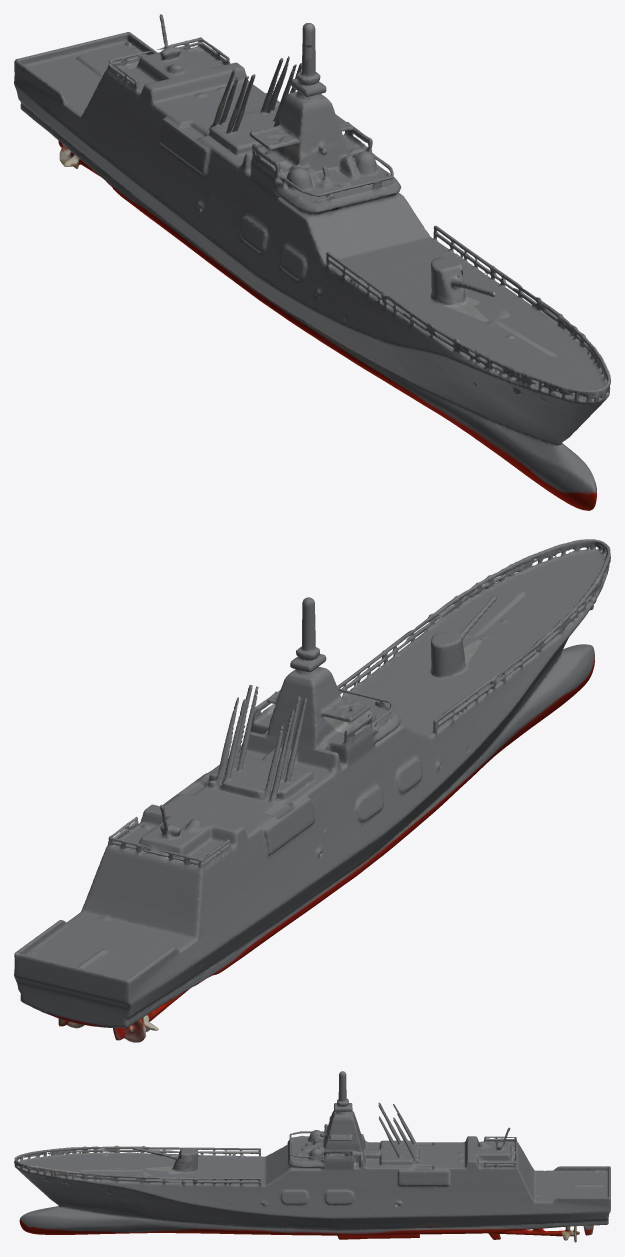
Rendered from military.glb.
3 renders of one model, top to bottom at view 1: azimuth 30°, elevation 25°; view 2: azimuth 150°, elevation 25°; view 3: azimuth 270°, elevation 25°, orthographic. The views are drawn at different scales.
Visible parts, largest first — view 1: tripo_node_4b5bf6d4-df59-4891-9019-5895e439d8d8; view 2: tripo_node_4b5bf6d4-df59-4891-9019-5895e439d8d8; view 3: tripo_node_4b5bf6d4-df59-4891-9019-5895e439d8d8.
Boxes of the visible parts, <box> form: tripo_node_4b5bf6d4-df59-4891-9019-5895e439d8d8: <box>14,14,610,510</box>; tripo_node_4b5bf6d4-df59-4891-9019-5895e439d8d8: <box>14,539,610,1042</box>; tripo_node_4b5bf6d4-df59-4891-9019-5895e439d8d8: <box>14,1071,610,1242</box>.
Size of the model in its own units: 0.2827 by 0.6211 by 2.
1 material, 1 textured.
